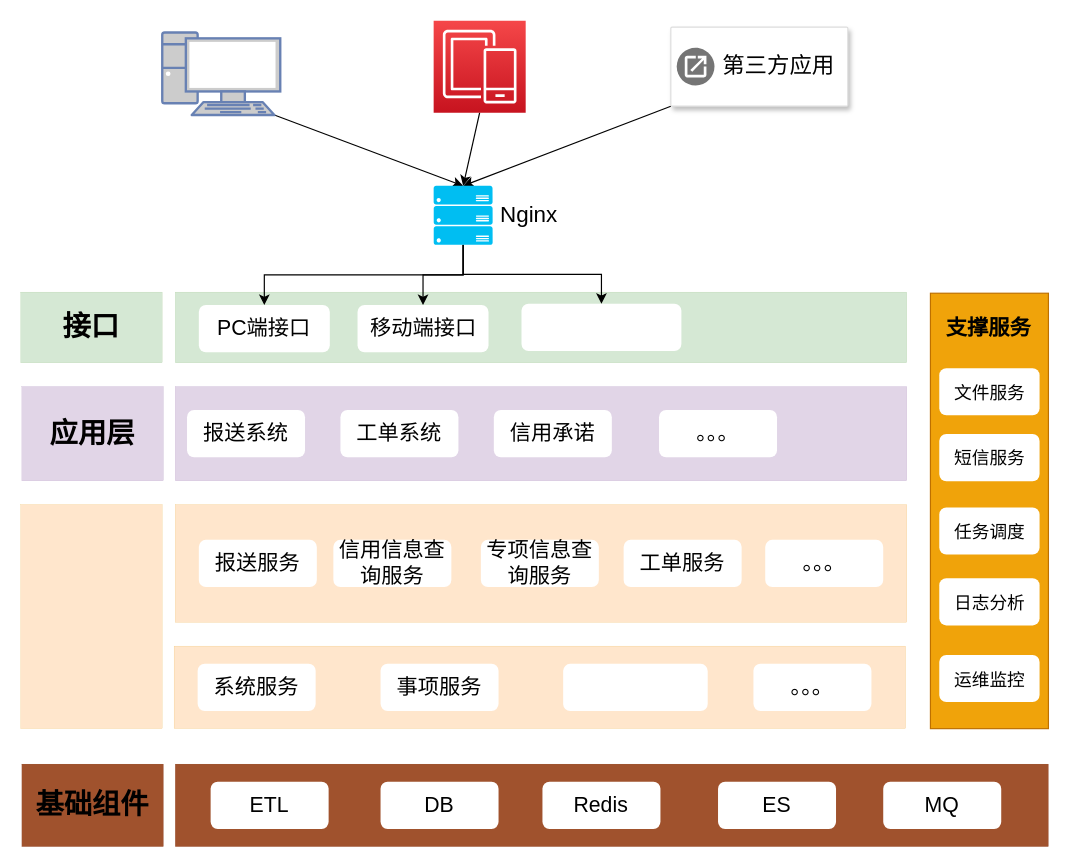
Some shapes in this 1069 by 867 pixel diagram are drawn without their labels. The centre of each missing label's shape, as x and y in pixels:
数据查询服务: [635,686]
服务层: [91,616]
第三方服务接口: [601,326]
